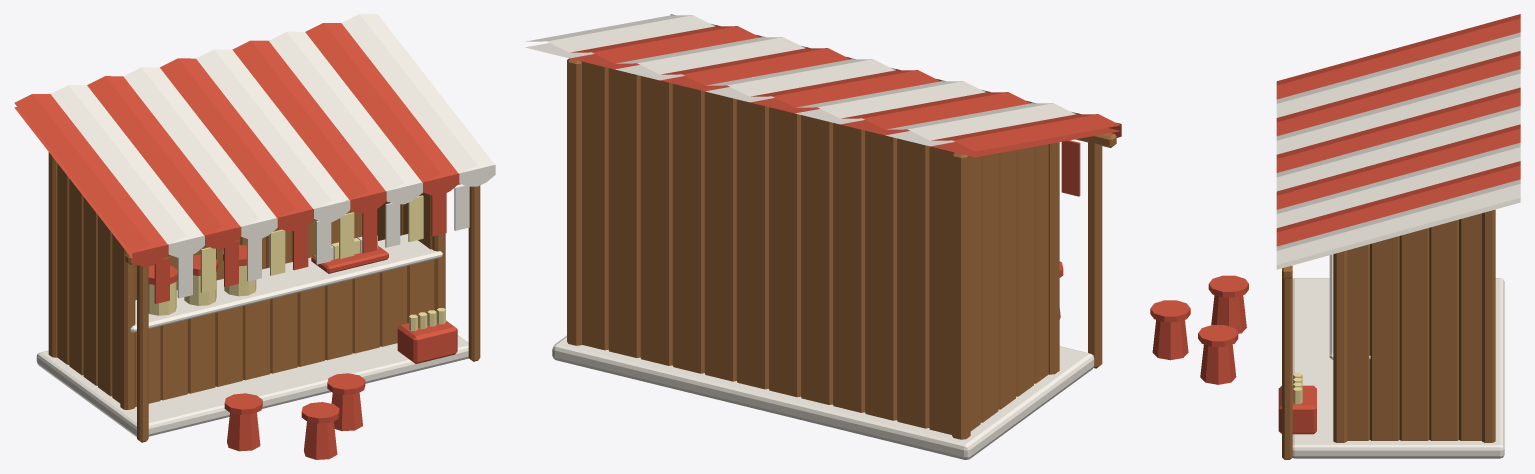
File: warung.glb
The picture shows the model from 3 angles, left to right: view 1: azimuth 30°, elevation 25°; view 2: azimuth 150°, elevation 25°; view 3: azimuth 270°, elevation 25°; orthographic projection. The views are drawn at different scales.
Parts seen in each view (by area): view 1: warung_mesh; view 2: warung_mesh; view 3: warung_mesh.
Boxes of the visible parts, x1,y1,x2,y2 form: warung_mesh: (14, 14, 495, 459); warung_mesh: (525, 14, 1121, 459); warung_mesh: (1150, 14, 1520, 459).
Size of the model in its own units: 4.1 by 2.85 by 3.49.
